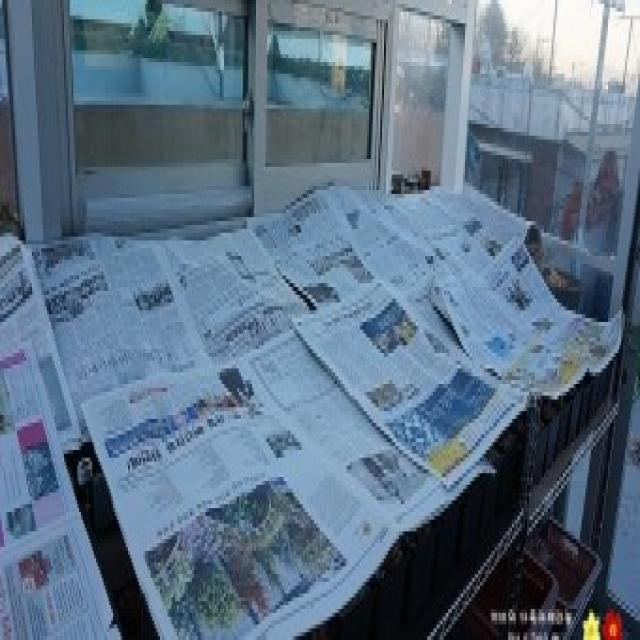Newspaper: (55, 169, 626, 640)
